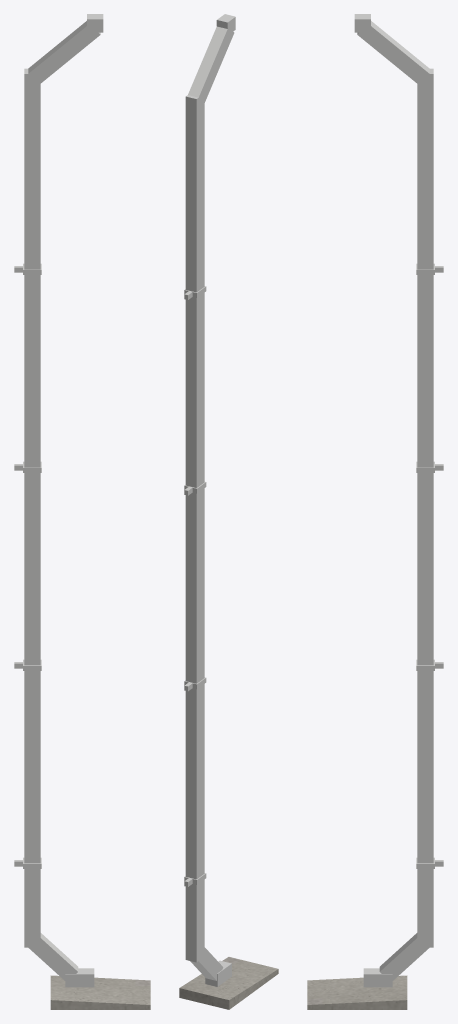
File: downspout.glb
The picture shows the model from 3 angles, left to right: view 1: azimuth 90°, elevation 25°; view 2: azimuth 150°, elevation 25°; view 3: azimuth 270°, elevation 25°; orthographic projection.
Visible parts, largest first — view 1: downspout_gutter, downspout_concrete; view 2: downspout_gutter, downspout_concrete; view 3: downspout_gutter, downspout_concrete.
Part boxes in pixels (left/top/right/bottom): downspout_gutter: left=14, top=14, right=103, bottom=987; downspout_concrete: left=50, top=975, right=150, bottom=1009; downspout_gutter: left=184, top=14, right=235, bottom=986; downspout_concrete: left=179, top=957, right=278, bottom=1009; downspout_gutter: left=354, top=14, right=443, bottom=987; downspout_concrete: left=307, top=975, right=407, bottom=1009.
Size of the model in its own units: 0.32 by 5.95 by 0.75.
2 materials, 1 textured.
